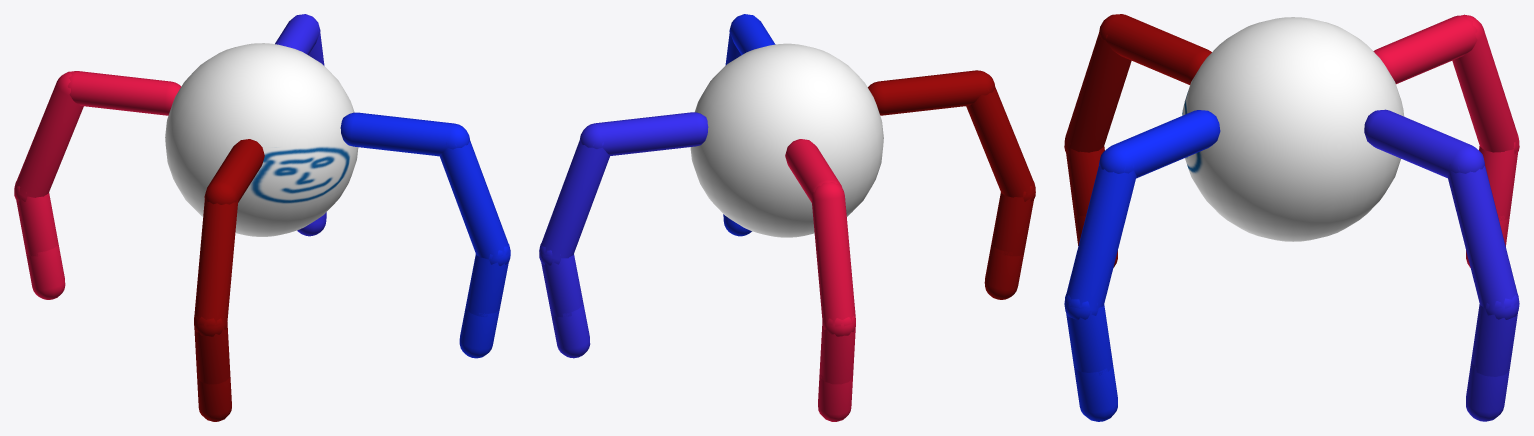
Rendered from spider.fbx.
3 renders of one model, left to right at view 1: azimuth 30°, elevation 25°; view 2: azimuth 150°, elevation 25°; view 3: azimuth 270°, elevation 25°, orthographic. The views are drawn at different scales.
Visible parts, largest first — view 1: -Sphere001, -Capsule019, -Capsule014, -Capsule013, -Capsule022, -Capsule023, -Capsule024, -Capsule028, -Capsule026, -Capsule027, -Capsule021, -Capsule015 (+2 smaller); view 2: -Sphere001, -Capsule022, -Capsule016, -Capsule018, -Capsule024, -Capsule019, -Capsule027, -Capsule025, -Capsule026, -Capsule023, -Capsule020, -Capsule017 (+2 smaller); view 3: -Sphere001, -Capsule014, -Capsule016, -Capsule013, -Capsule022, -Capsule018, -Capsule019, -Capsule024, -Capsule023, -Capsule025, -Capsule028, -Capsule015 (+3 smaller).
Part boxes in pixels (left/top/right/bottom): -Sphere001: left=165, top=43, right=358, bottom=236; -Capsule019: left=194, top=194, right=238, bottom=336; -Capsule014: left=440, top=140, right=510, bottom=265; -Capsule013: left=340, top=112, right=469, bottom=156; -Capsule022: left=14, top=71, right=83, bottom=201; -Capsule023: left=67, top=71, right=181, bottom=115; -Capsule024: left=204, top=139, right=264, bottom=204; -Capsule028: left=466, top=242, right=510, bottom=317; -Capsule026: left=14, top=181, right=58, bottom=256; -Capsule027: left=194, top=315, right=230, bottom=384; -Capsule021: left=26, top=243, right=65, bottom=299; -Capsule015: left=459, top=306, right=499, bottom=358; -Sphere001: left=690, top=43, right=883, bottom=237; -Capsule022: left=811, top=182, right=855, bottom=336; -Capsule016: left=539, top=140, right=609, bottom=265; -Capsule018: left=580, top=112, right=708, bottom=155; -Capsule024: left=868, top=70, right=994, bottom=115; -Capsule019: left=966, top=86, right=1035, bottom=201; -Capsule027: left=992, top=181, right=1035, bottom=256; -Capsule025: left=539, top=242, right=582, bottom=317; -Capsule026: left=819, top=316, right=855, bottom=384; -Capsule023: left=785, top=139, right=842, bottom=202; -Capsule020: left=984, top=242, right=1023, bottom=299; -Capsule017: left=551, top=302, right=590, bottom=358; -Sphere001: left=1182, top=17, right=1404, bottom=241; -Capsule014: left=1064, top=164, right=1136, bottom=320; -Capsule016: left=1447, top=164, right=1519, bottom=319; -Capsule013: left=1099, top=110, right=1220, bottom=178; -Capsule022: left=1452, top=14, right=1519, bottom=153; -Capsule018: left=1364, top=109, right=1484, bottom=178; -Capsule019: left=1064, top=32, right=1131, bottom=154; -Capsule024: left=1099, top=14, right=1211, bottom=84; -Capsule023: left=1373, top=15, right=1477, bottom=84; -Capsule025: left=1471, top=292, right=1518, bottom=376; -Capsule028: left=1065, top=293, right=1112, bottom=375; -Capsule015: left=1074, top=363, right=1117, bottom=421.
Bounding box in the file's own units: 71.89 × 78.26 × 60.47.
5 materials, 1 textured.
